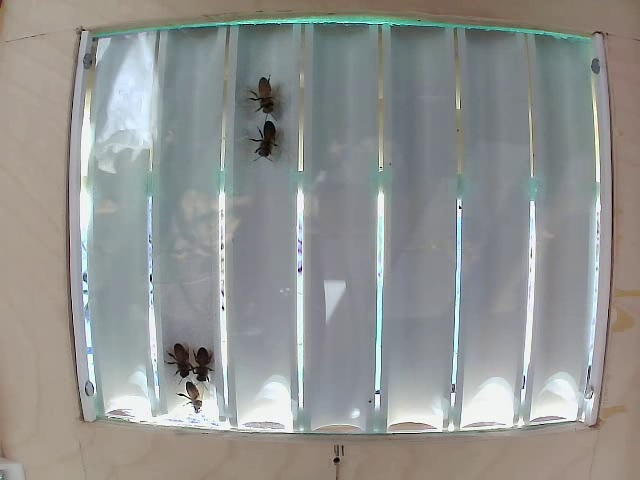bee: (249, 109, 285, 165), (243, 79, 277, 124), (159, 333, 187, 380), (171, 373, 202, 411), (186, 341, 210, 384)
